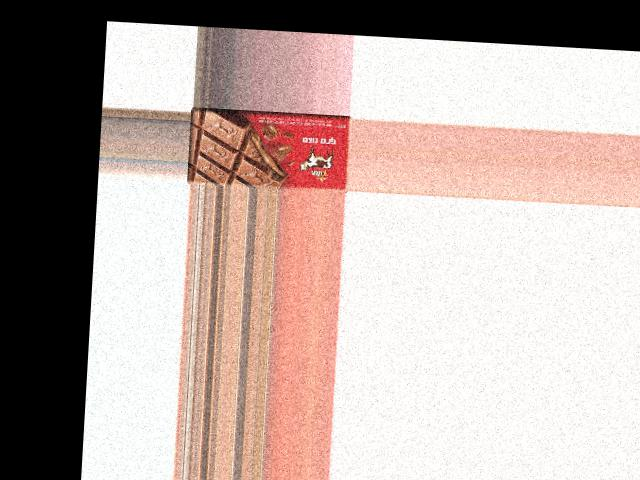chocolate: (189, 108, 352, 193)
